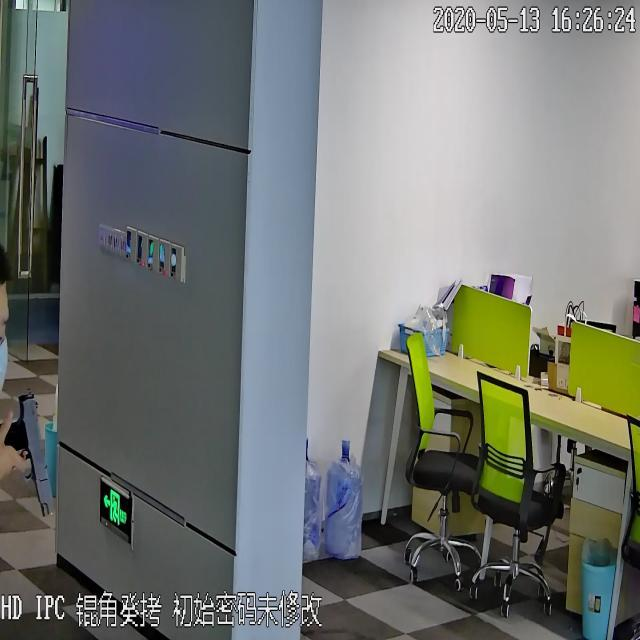gun: (0, 385, 57, 520)
